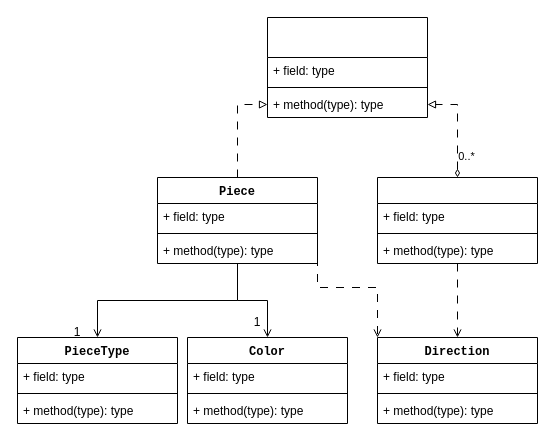
Some shapes in this 555 by 444 pixel diagram are drawn without their labels. Each missing label, with the box of its shape:
<<interface>> BoardElement: (266, 16, 428, 118)
Formation: (376, 176, 538, 264)
